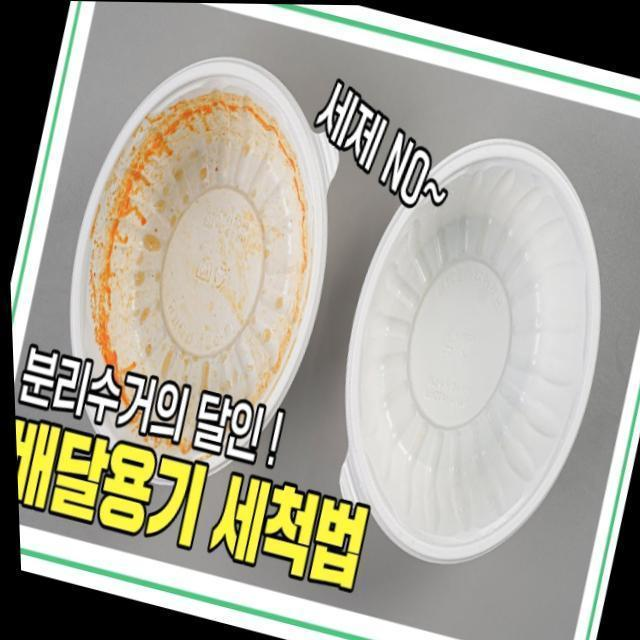disposable: (341, 131, 614, 558), (72, 50, 334, 490)
